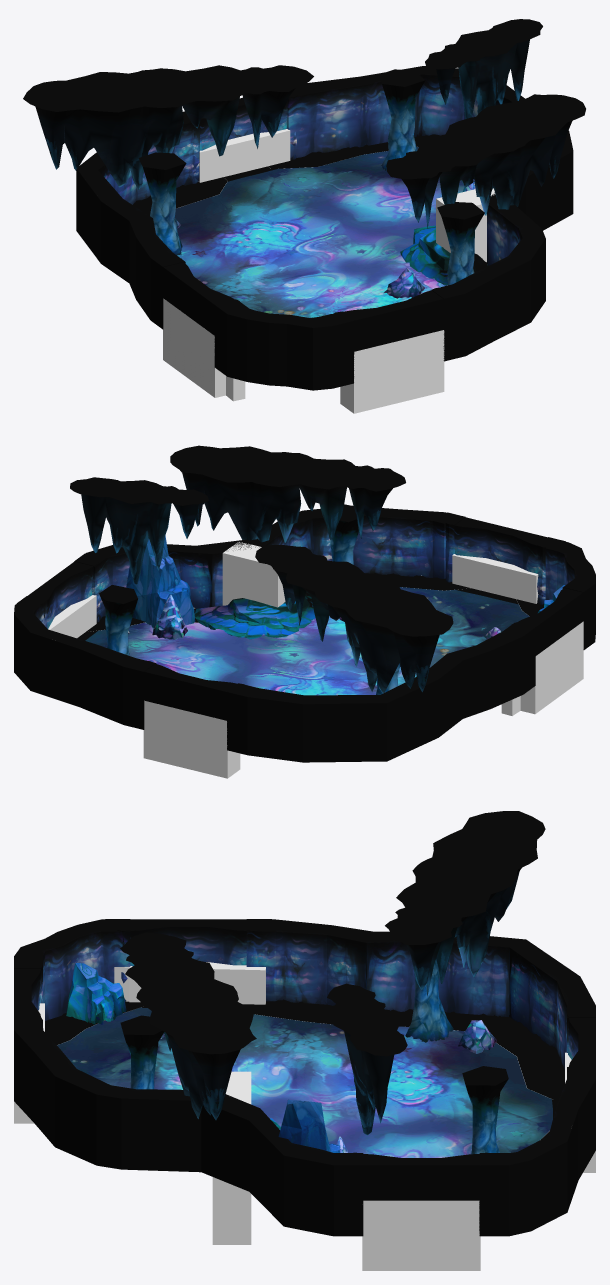
Rendered from Dungeon_052_BossRoom.fbx.
3 renders of one model, top to bottom at view 1: azimuth 30°, elevation 25°; view 2: azimuth 150°, elevation 25°; view 3: azimuth 270°, elevation 25°, orthographic. The views are drawn at different scales.
Visible parts, largest first — view 1: Dun_011_Room_003_wall, Dun_011_Room_003_ground, Dungeon_011_Iwa004_3, Dungeon_011_Iwa004_2, DoorWay_NavMask (1) (×3), Dun_011_Door_002 (×3), Dungeon_011_Object_010 (×3), Dungeon_011_Iwa004_1, Dun_011_Room_003_shadow, Dungeon_011_Iwa003, Cube, Dungeon_011_Object_012; view 2: Dun_011_Room_003_wall, Dun_011_Room_003_ground, Dungeon_011_Iwa004_2, Dungeon_011_Iwa004_3, Dun_011_Door_002 (×4), DoorWay_NavMask (1) (×4), Dungeon_011_Iwa004_1, Dungeon_011_Iwa003, Dungeon_011_Iwa001, Dungeon_011_Object_010 (×2), Cube, Dun_011_Room_003_shadow (+1 smaller); view 3: Dun_011_Room_003_wall, Dun_011_Room_003_ground, Dungeon_011_Iwa004_3, Dun_011_Door_002 (×4), Dungeon_011_Iwa004_2, DoorWay_NavMask (1), Dungeon_011_Object_010 (×3), Dun_011_Room_003_shadow, Dungeon_011_Iwa004_1, Cube, Dungeon_011_Iwa002, Dungeon_011_Iwa001 (+2 smaller).
Part boxes in pixels (x1,y1,x2,y2): Dun_011_Room_003_wall: (76, 66, 573, 390); Dun_011_Room_003_ground: (174, 147, 464, 317); Dungeon_011_Iwa004_3: (23, 65, 313, 189); Dungeon_011_Iwa004_2: (386, 94, 585, 228); DoorWay_NavMask (1) (×3): (163, 129, 444, 413); Dun_011_Door_002 (×3): (152, 87, 462, 351); Dungeon_011_Object_010 (×3): (138, 69, 484, 285); Dungeon_011_Iwa004_1: (425, 19, 542, 118); Dun_011_Room_003_shadow: (133, 134, 488, 266); Dungeon_011_Iwa003: (400, 225, 487, 285); Cube: (436, 188, 495, 262); Dungeon_011_Object_012: (384, 268, 424, 298); Dun_011_Room_003_wall: (14, 505, 595, 762); Dun_011_Room_003_ground: (85, 575, 529, 695); Dungeon_011_Iwa004_2: (170, 445, 405, 542); Dungeon_011_Iwa004_3: (255, 545, 453, 693); Dun_011_Door_002 (×4): (17, 512, 593, 720); DoorWay_NavMask (1) (×4): (48, 554, 583, 778); Dungeon_011_Iwa004_1: (70, 477, 208, 584); Dungeon_011_Iwa003: (194, 591, 315, 639); Dungeon_011_Iwa001: (126, 535, 195, 627); Dungeon_011_Object_010 (×2): (99, 504, 358, 655); Cube: (222, 542, 285, 607); Dun_011_Room_003_shadow: (86, 573, 544, 631); Dun_011_Room_003_wall: (14, 919, 595, 1236); Dun_011_Room_003_ground: (57, 1007, 552, 1157); Dungeon_011_Iwa004_3: (385, 811, 545, 995); Dun_011_Door_002 (×4): (14, 919, 595, 1230); Dungeon_011_Iwa004_2: (120, 932, 256, 1120); DoorWay_NavMask (1): (362, 1200, 480, 1270); Dungeon_011_Object_010 (×3): (120, 962, 508, 1154); Dun_011_Room_003_shadow: (45, 999, 564, 1139); Dungeon_011_Iwa004_1: (327, 983, 407, 1135); Cube: (212, 1071, 251, 1244); Dungeon_011_Iwa002: (66, 963, 126, 1024); Dungeon_011_Iwa001: (278, 1099, 340, 1152).
Size of what is drawn, in the model's own units: 16.01 by 7 by 15.
